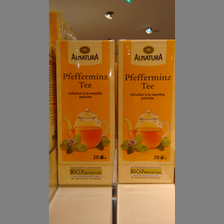tea: (56, 39, 117, 186), (116, 39, 174, 185)
